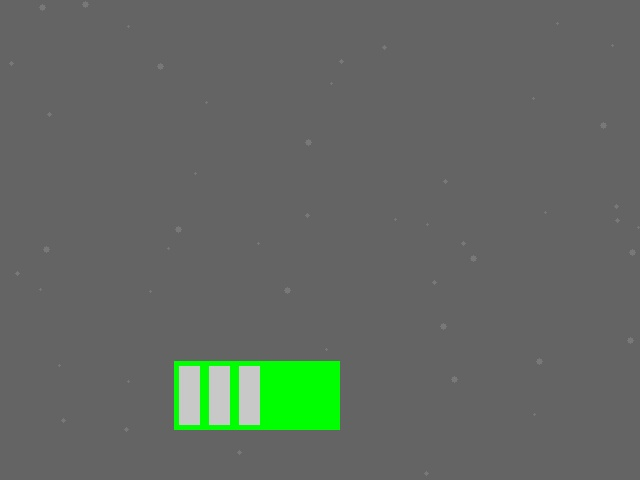bus: (174, 361, 339, 429)
